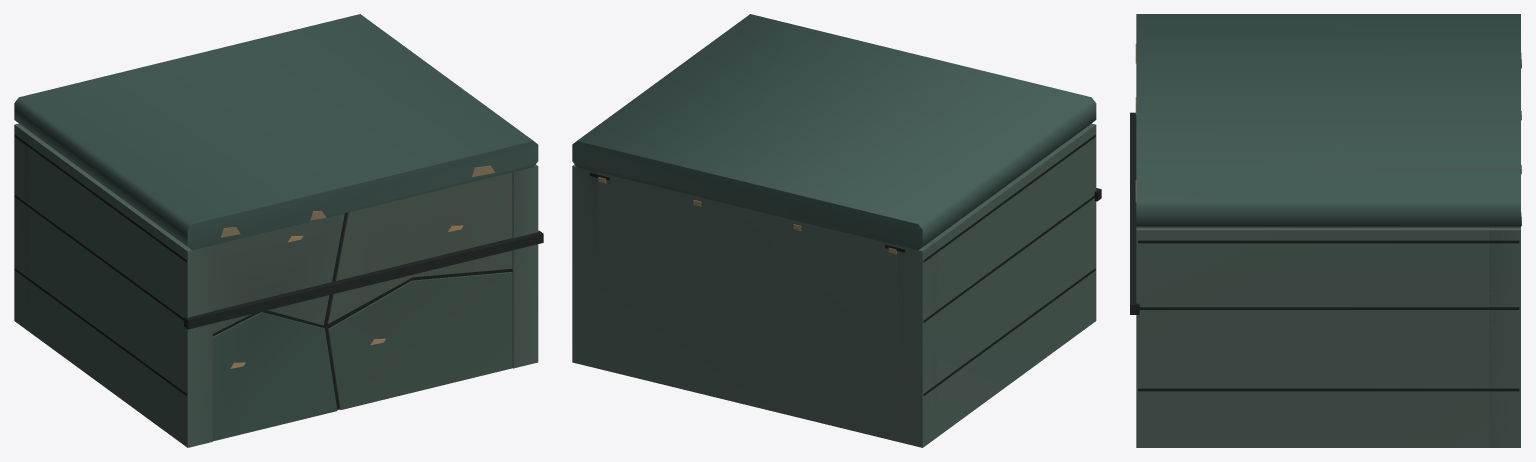
Rendered from cracked_cache.glb.
3 renders of one model, left to right at view 1: azimuth 30°, elevation 25°; view 2: azimuth 150°, elevation 25°; view 3: azimuth 270°, elevation 25°, orthographic. The views are drawn at different scales.
Visible parts, largest first — view 1: CacheRoof, CacheWall, CacheShell; view 2: CacheShell, CacheRoof; view 3: CacheShell, CacheRoof.
Boxes of the visible parts, box(x1,y1,x2,y2) form: CacheRoof: box(14, 14, 538, 250); CacheWall: box(212, 172, 512, 441); CacheShell: box(14, 123, 543, 447); CacheShell: box(572, 123, 1101, 447); CacheRoof: box(572, 14, 1096, 250); CacheShell: box(1130, 53, 1521, 447); CacheRoof: box(1135, 14, 1520, 227).
Bounding box in the file's own units: 14.2 × 8.5 × 12.23.
